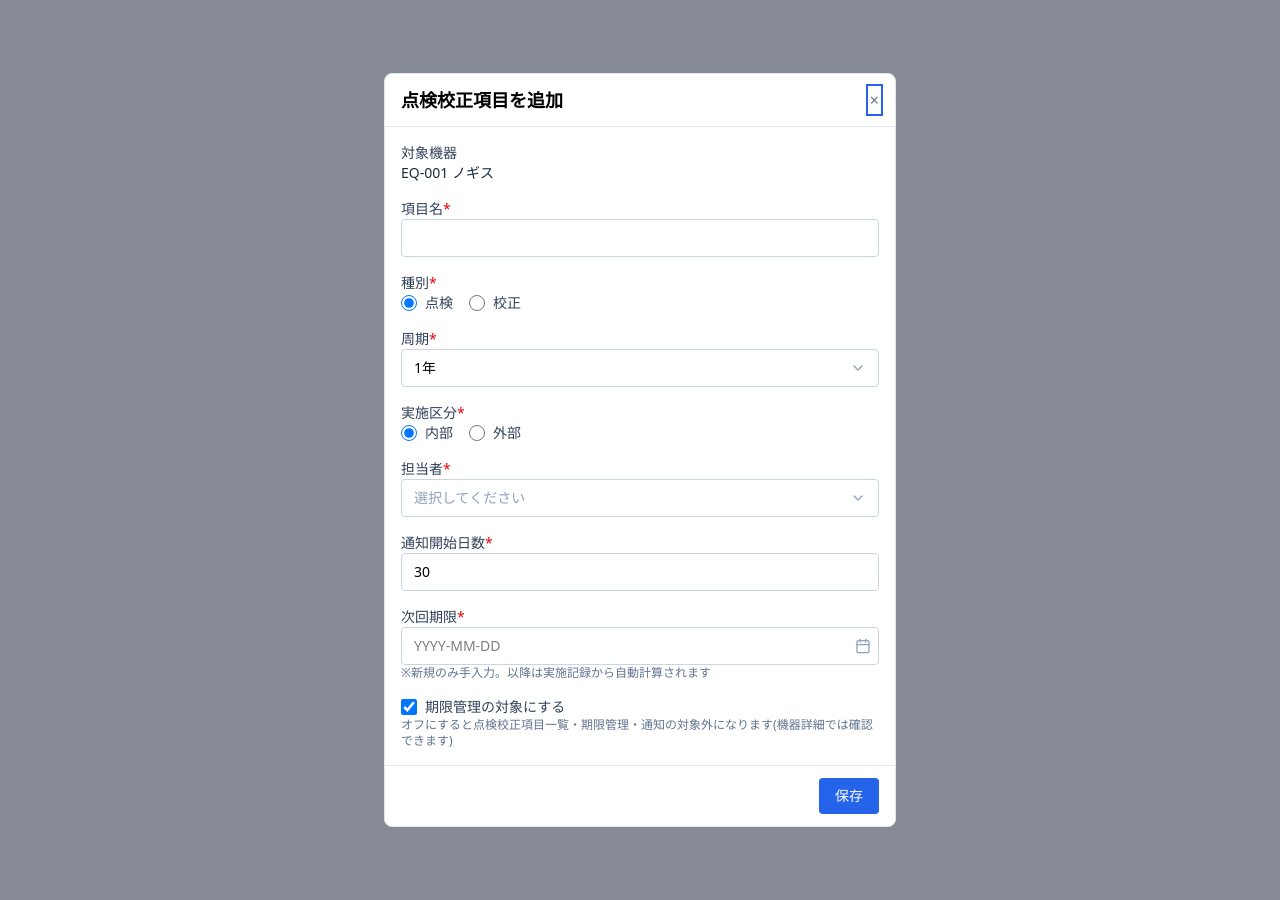
Test: ServiceItemModal: 新規追加 › 必須未入力で保存するとエラーが表示されストアが変化しない
Click the button "保存": coordinates (849, 796) 819,778 -> 879,814
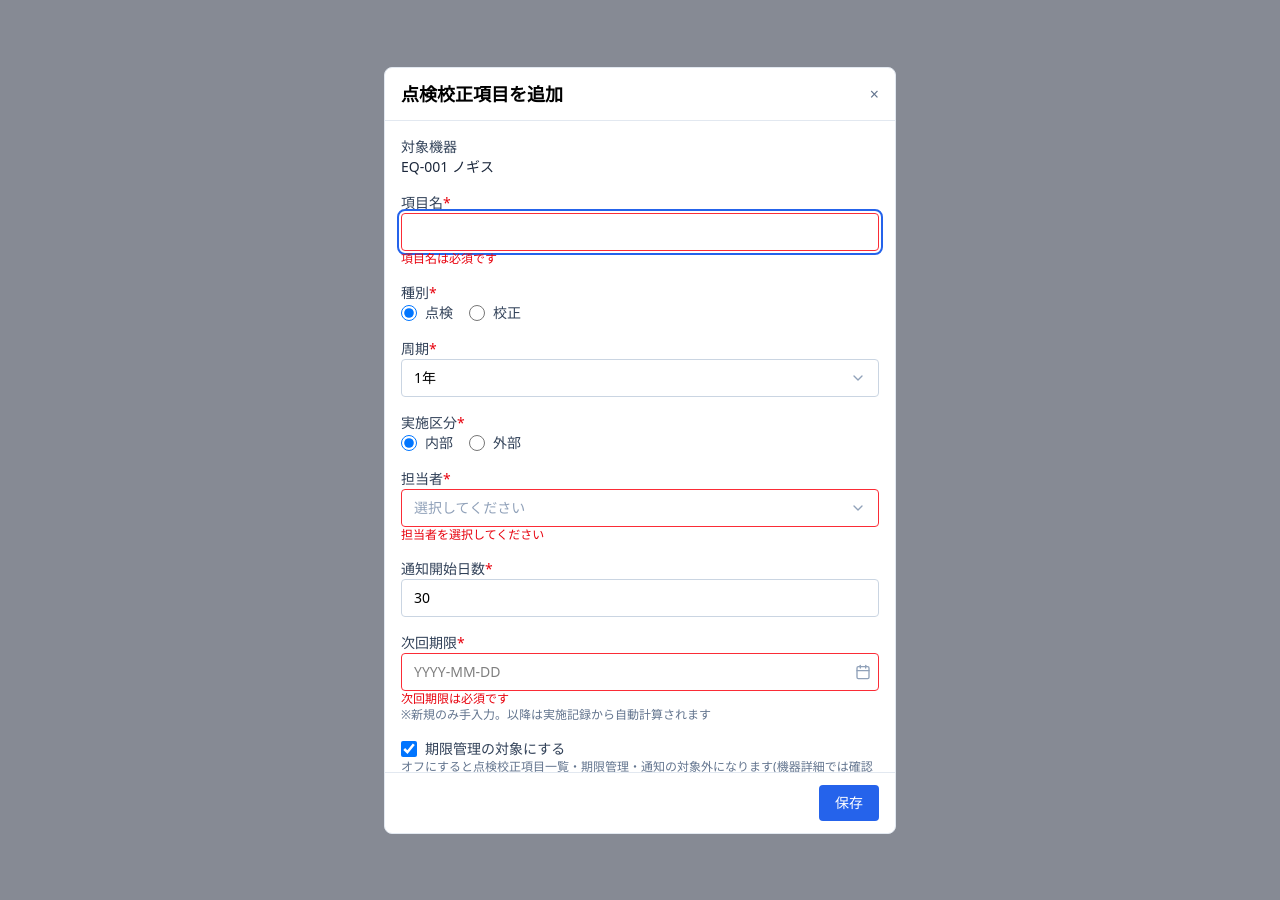
Check: the text "項目名は必須です" is shown, box 401,250 -> 497,266
Check: the text "次回期限は必須です" is shown, box 401,690 -> 509,706
